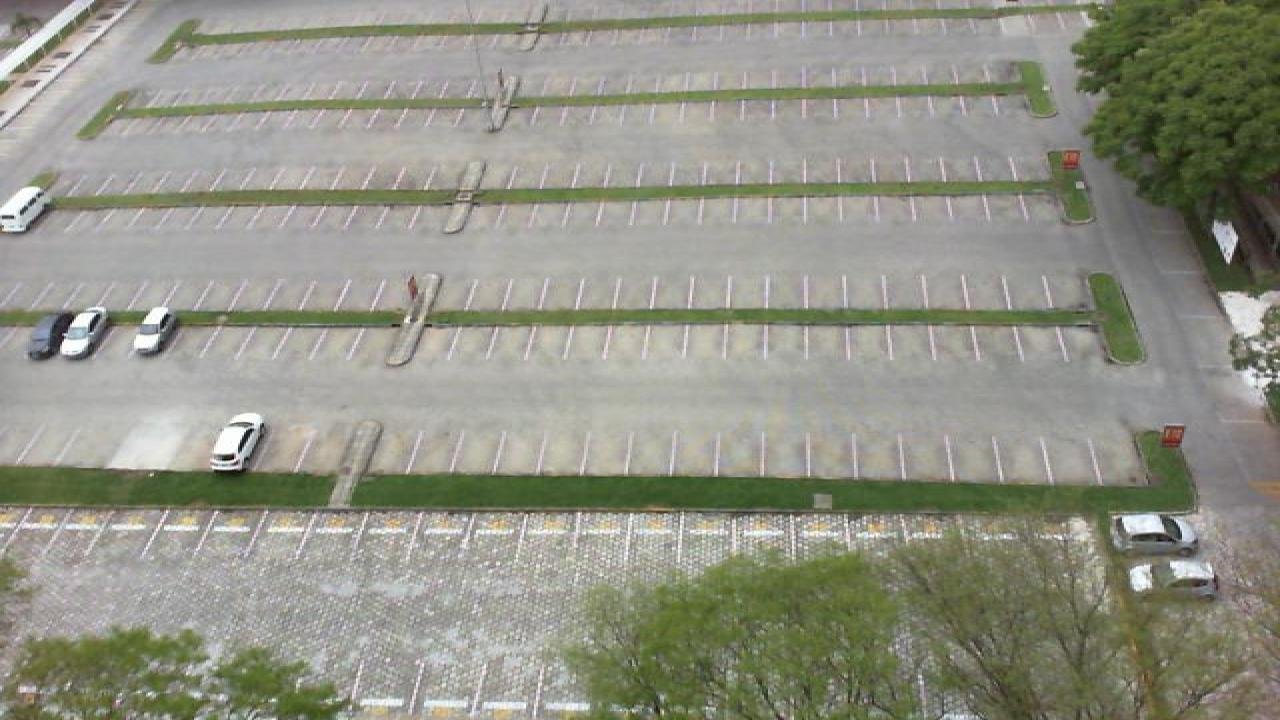Car: (1110, 512, 1200, 557), (1128, 560, 1218, 600), (210, 413, 266, 471), (58, 307, 108, 358), (0, 184, 48, 233), (28, 311, 74, 361), (132, 306, 174, 356)
